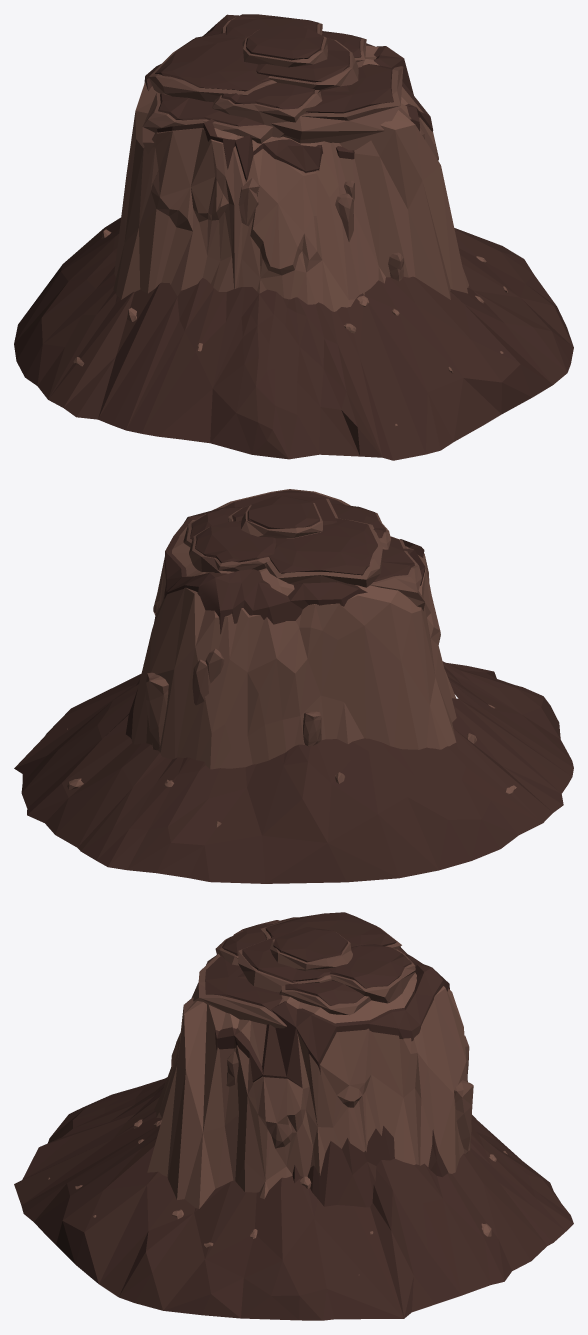
File: Brown_crag_002.fbx
3 renders of one model, top to bottom at view 1: azimuth 30°, elevation 25°; view 2: azimuth 150°, elevation 25°; view 3: azimuth 270°, elevation 25°, orthographic. The views are drawn at different scales.
Visible parts, largest first — view 1: Brown_crag_002; view 2: Brown_crag_002; view 3: Brown_crag_002.
Boxes of the visible parts, left/top/right/bottom form: Brown_crag_002: left=14, top=14, right=573, bottom=460; Brown_crag_002: left=14, top=489, right=573, bottom=883; Brown_crag_002: left=14, top=912, right=573, bottom=1320.
Bounding box in the file's own units: 8691 × 9116 × 4968.
